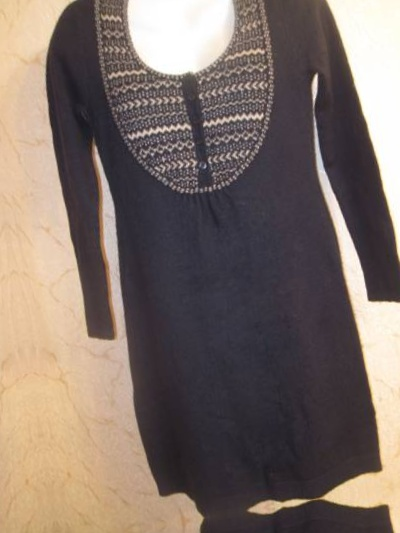Dress: (9, 0, 400, 532), (98, 481, 400, 533), (0, 19, 18, 533)
